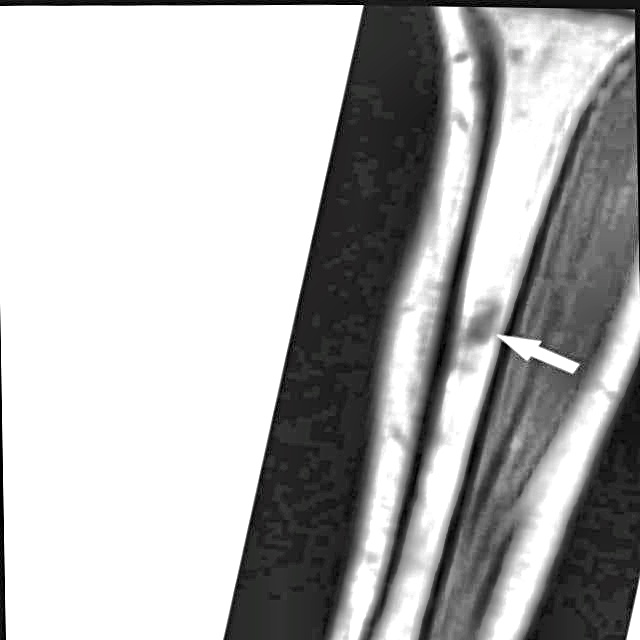Oblique Displaced: (431, 284, 512, 342)
